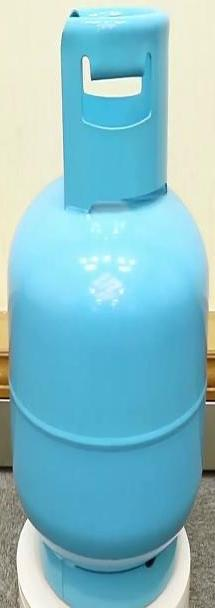cylinder: (0, 1, 215, 608)
